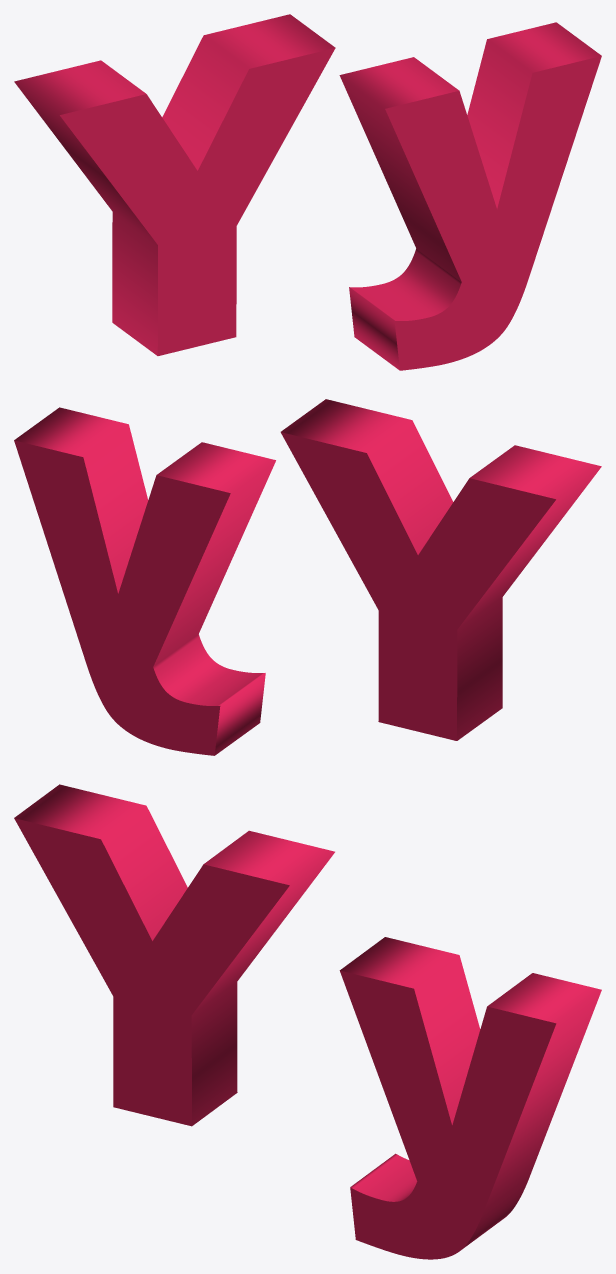
Rendered from letra y.fbx.
The picture shows the model from 3 angles, top to bottom: view 1: azimuth 30°, elevation 25°; view 2: azimuth 150°, elevation 25°; view 3: azimuth 330°, elevation 25°; orthographic projection.
Parts seen in each view (by area): view 1: Text; view 2: Text; view 3: Text.
Part boxes in pixels (left/top/right/bottom): Text: left=14, top=14, right=601, bottom=370; Text: left=14, top=399, right=601, bottom=755; Text: left=14, top=784, right=601, bottom=1259.
Bounding box in the file's own units: 110 × 66.7 × 16.27.
